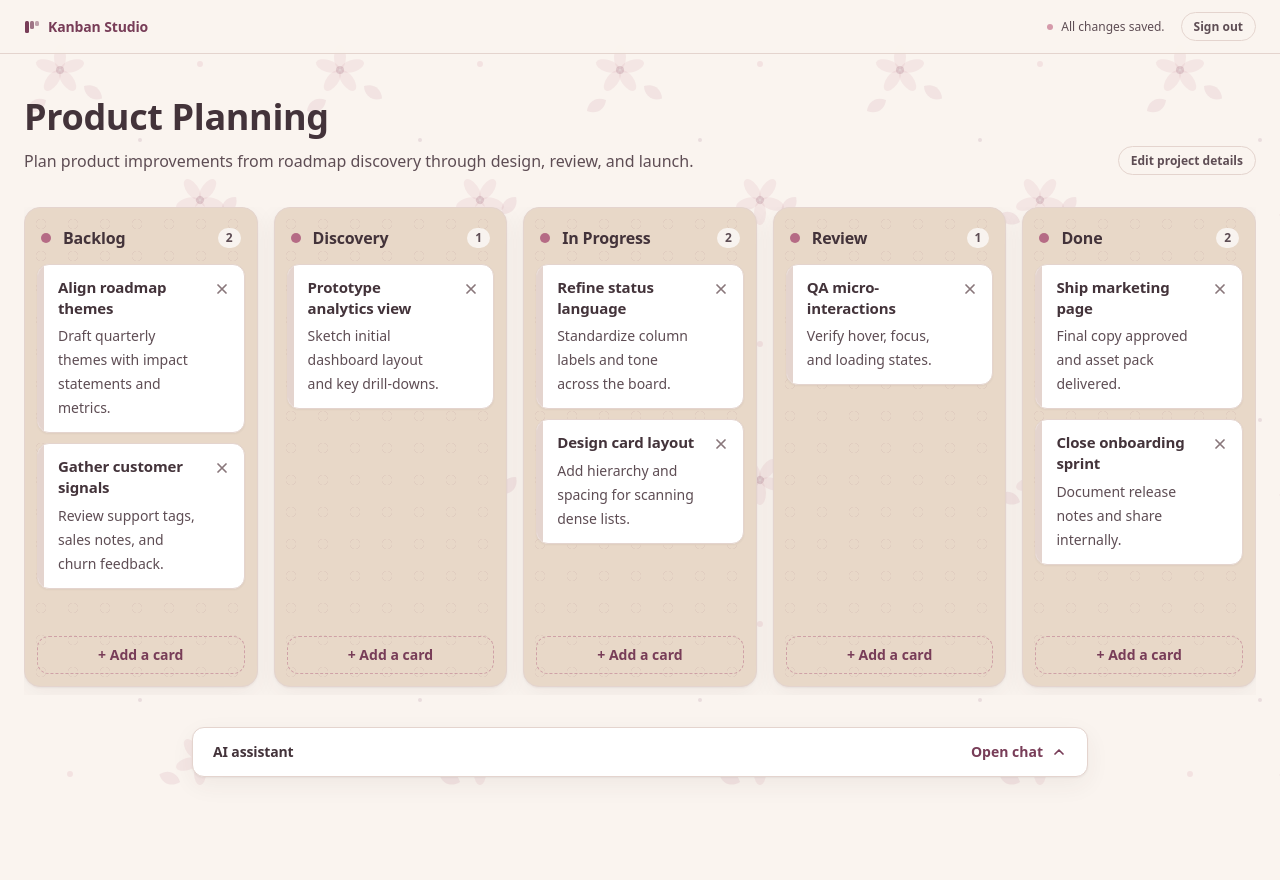
Scenario: KanbanBoard › saves project details through the board API
Expected: the heading "Product Planning" is shown, [24,92,329,141]
Click the button "Edit project details" at (1187, 160), box [1118,146,1256,175]
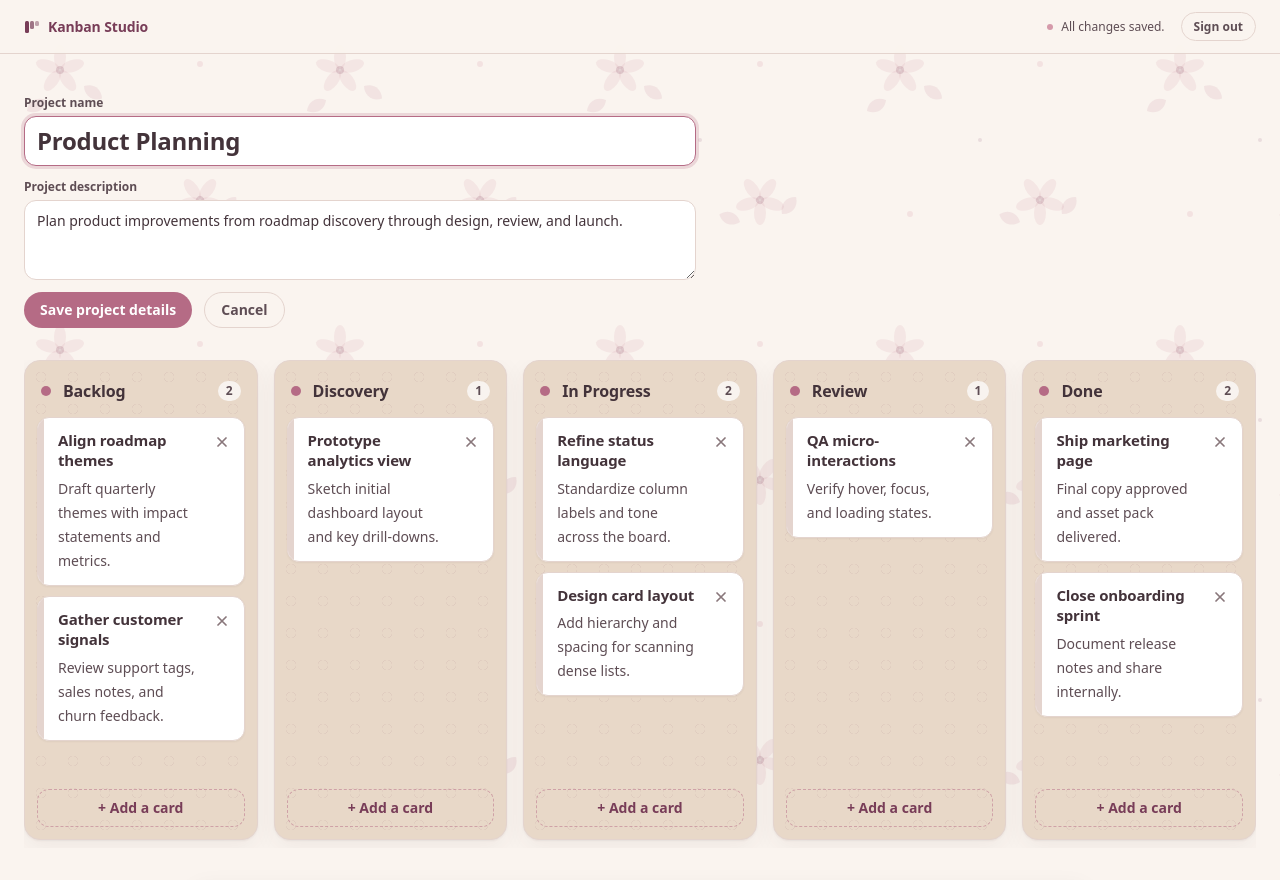
Replace the text in the field labelled "Project name" with "Customer insights" at (360, 141), box [24,116,696,166]
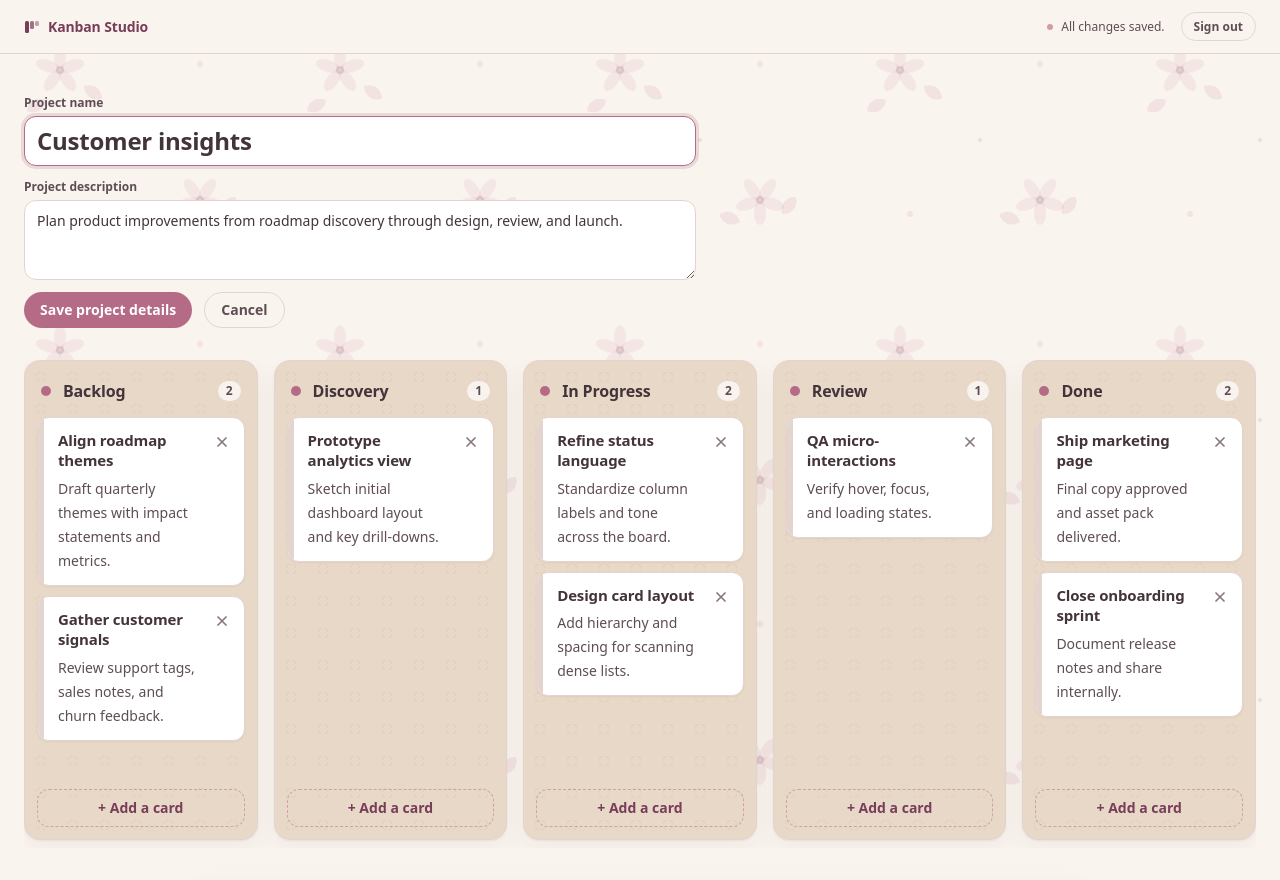
Replace the text in the text box labelled "Project description" with "Turn customer feedback into product improvements." at (360, 240), box [24,200,696,280]
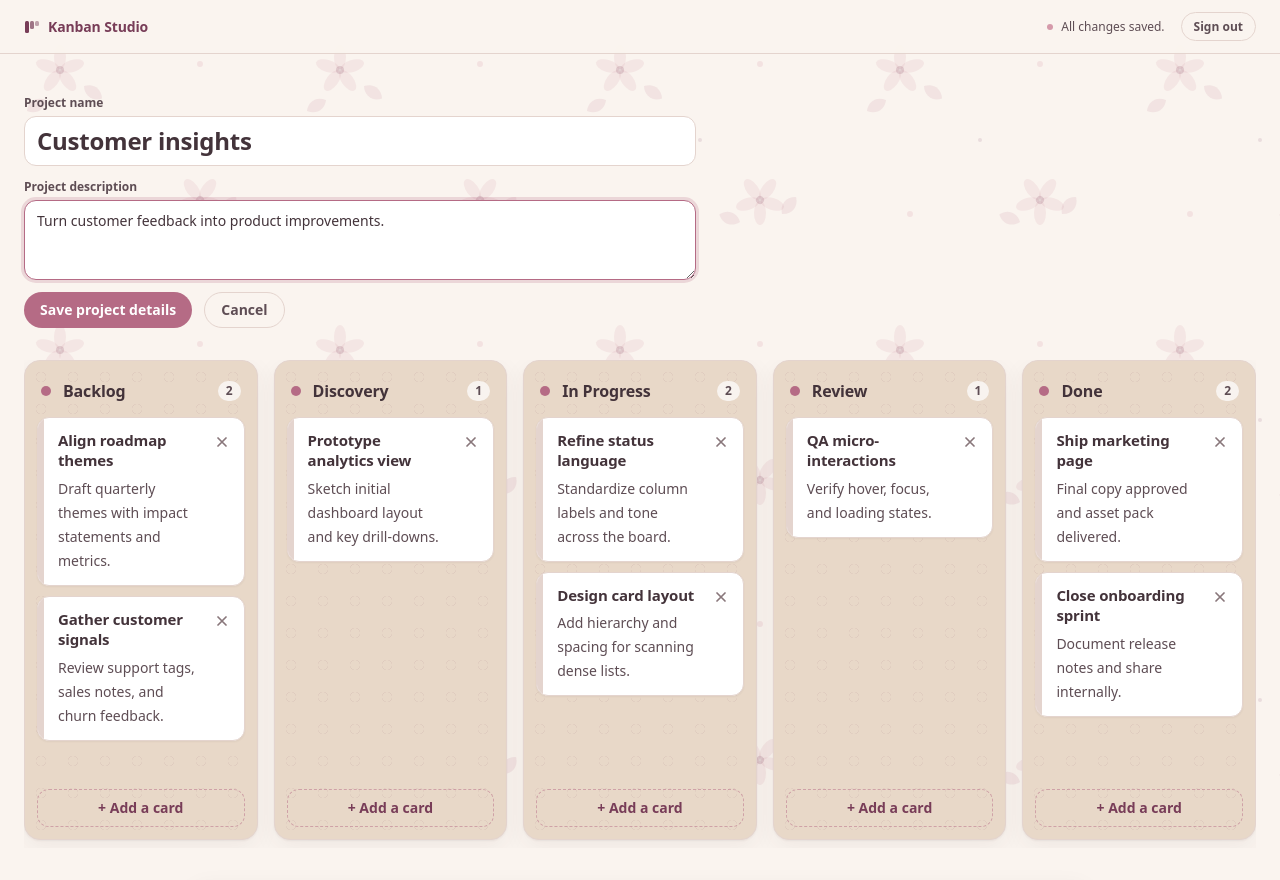
Click the button "Save project details" at (108, 310), box [24,292,192,328]
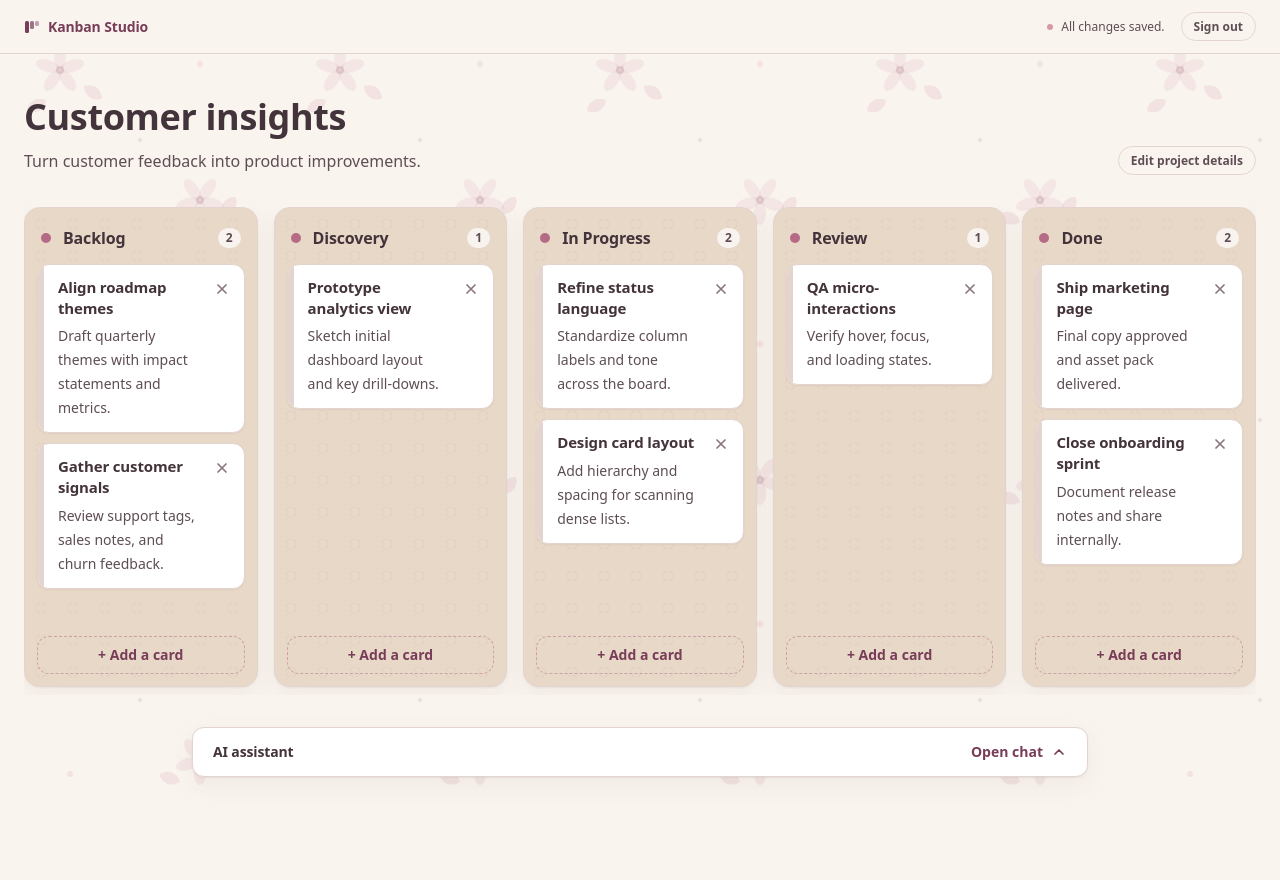
Expected: the heading "Customer insights" is shown, [24,92,346,141]
